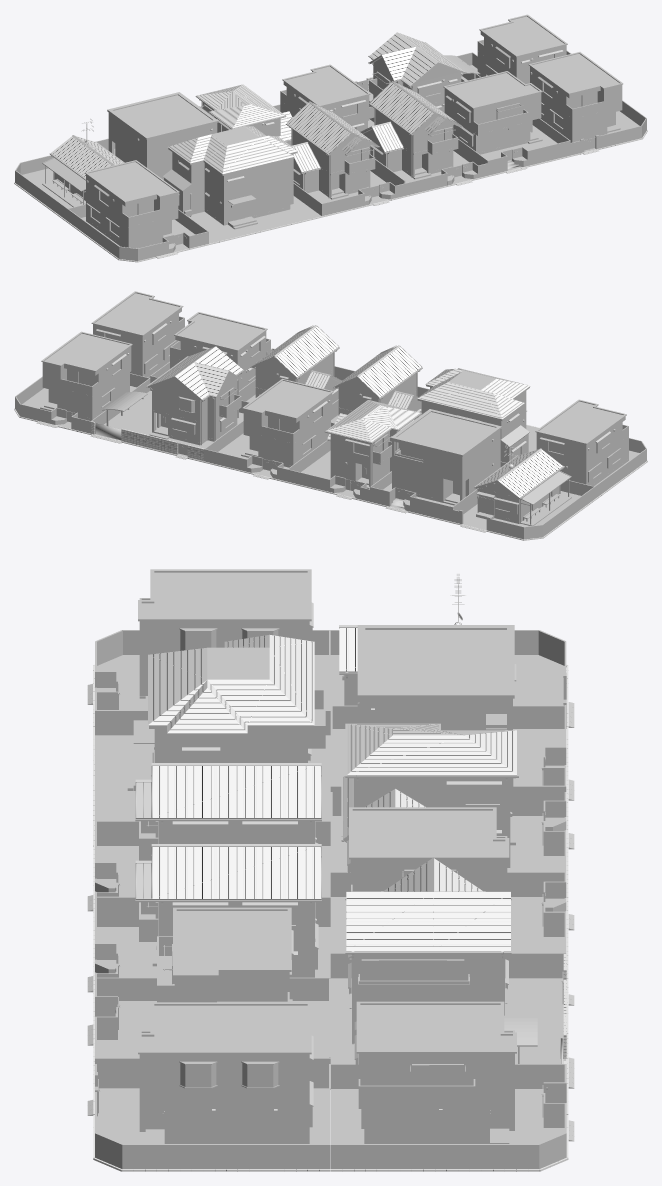
Rendered from Street_C.fbx.
3 renders of one model, top to bottom at view 1: azimuth 30°, elevation 25°; view 2: azimuth 150°, elevation 25°; view 3: azimuth 270°, elevation 25°, orthographic. The views are drawn at different scales.
Visible parts, largest first — view 1: Street_C; view 2: Street_C; view 3: Street_C.
Boxes of the visible parts, box(x1,y1,x2,y2) form: Street_C: box(14, 14, 647, 262); Street_C: box(14, 291, 647, 540); Street_C: box(87, 569, 574, 1171).
Bounding box in the file's own units: 6380 × 774 × 2542.
